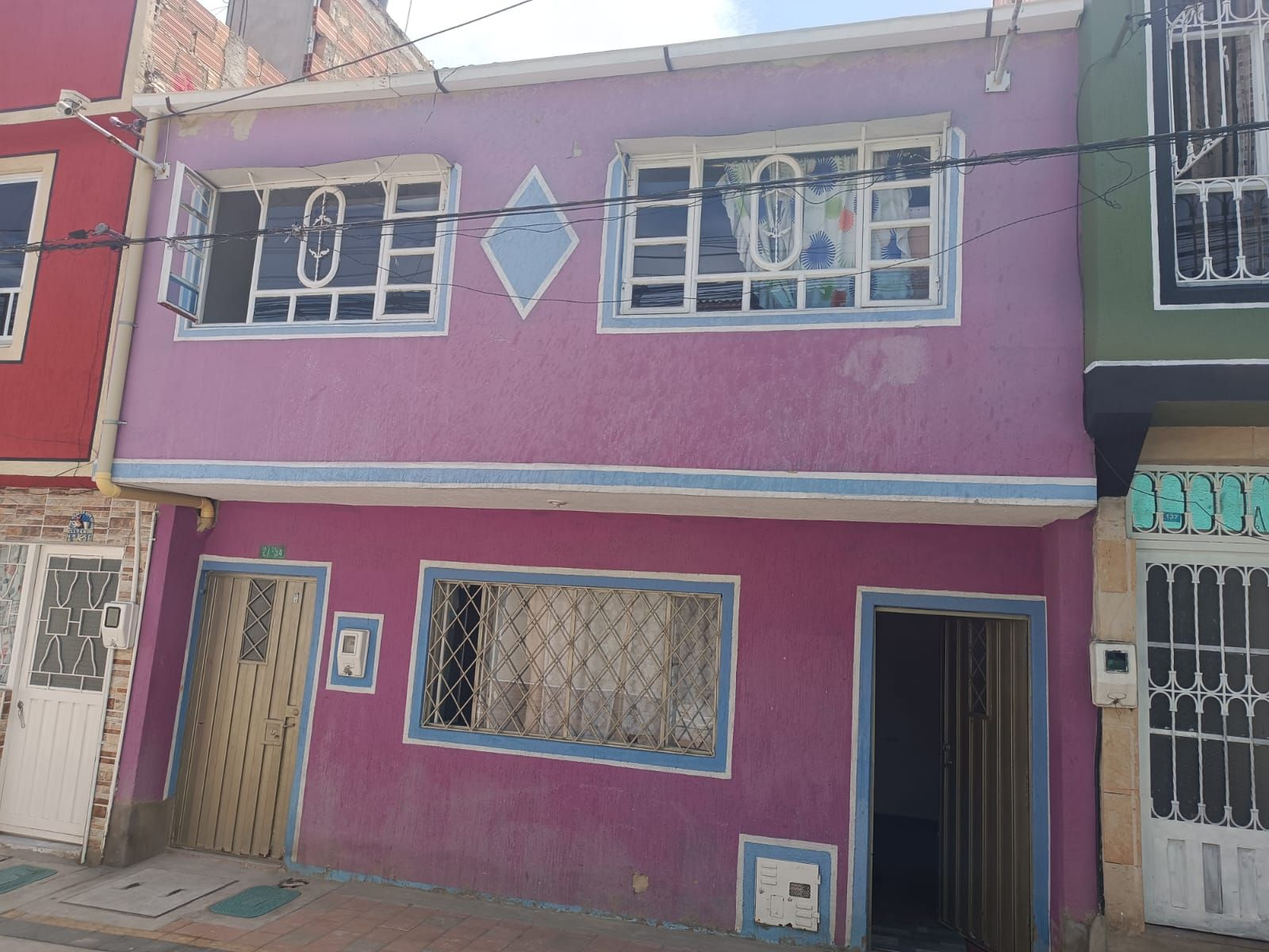House: (137, 79, 1105, 942)
